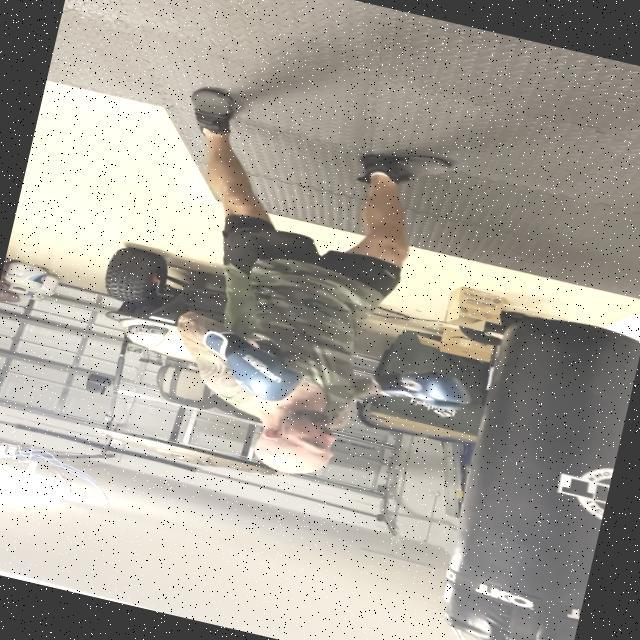bag: (431, 303, 640, 640)
hook: (137, 298, 504, 535)
